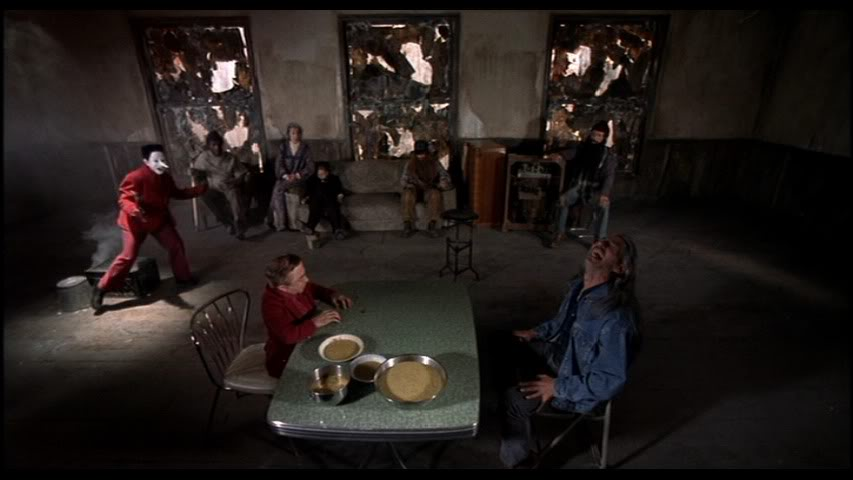person: (504, 231, 646, 476), (90, 144, 206, 306), (261, 255, 357, 374), (543, 121, 622, 251), (188, 131, 259, 239), (398, 140, 457, 237), (268, 121, 316, 233), (302, 161, 359, 241)
